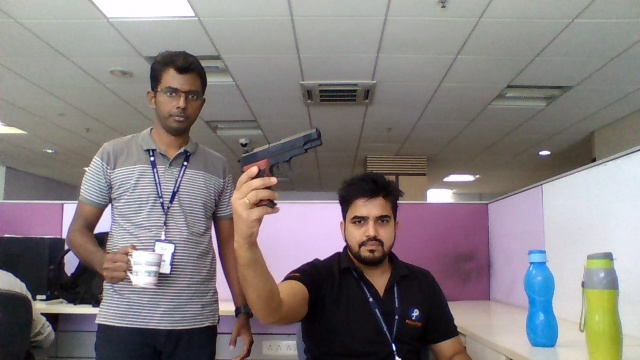gun: (237, 149, 323, 176)
